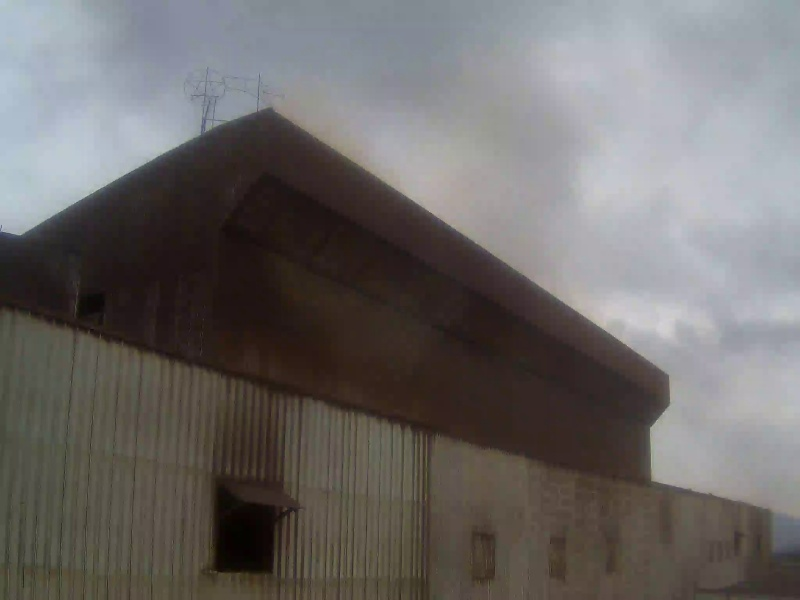bom: (12, 14, 269, 192), (609, 261, 779, 457)
ruim: (288, 62, 562, 340)
